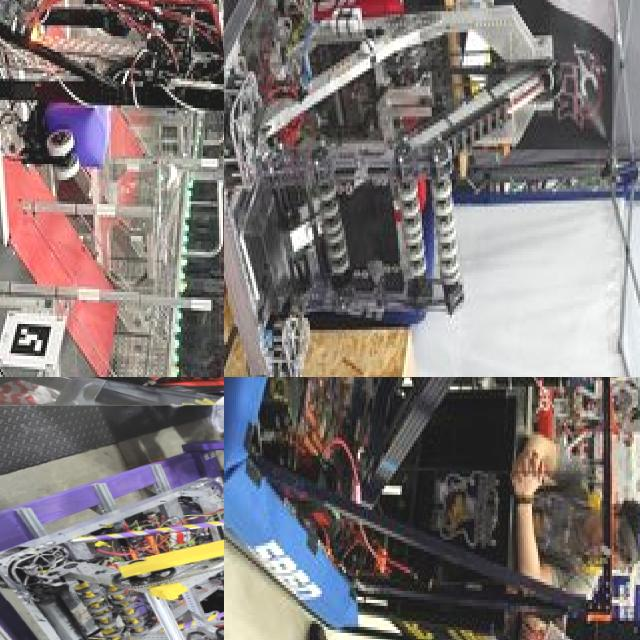FRC-Robots: (224, 0, 568, 377), (224, 377, 628, 640), (0, 0, 224, 279), (0, 461, 224, 640)
